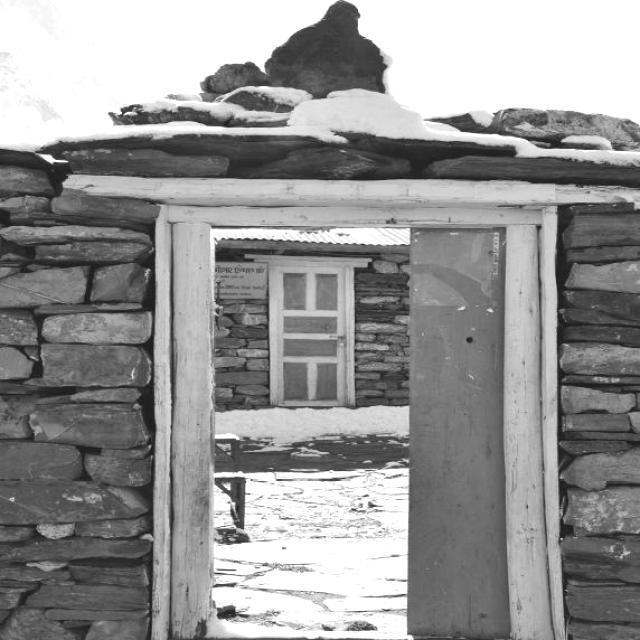door: (266, 253, 354, 409)
